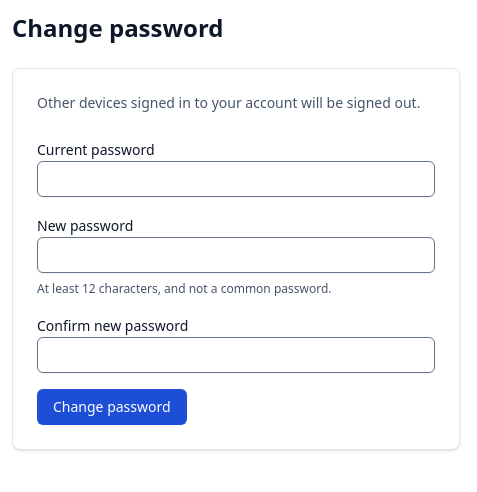
Test: ChangePasswordPage › checks the confirmation first
The image size is (477, 492).
Type "old passphrase 123" into the password field labelled "Current password".
click(236, 179); type("old passphrase 123")  # box [37,161,435,197]
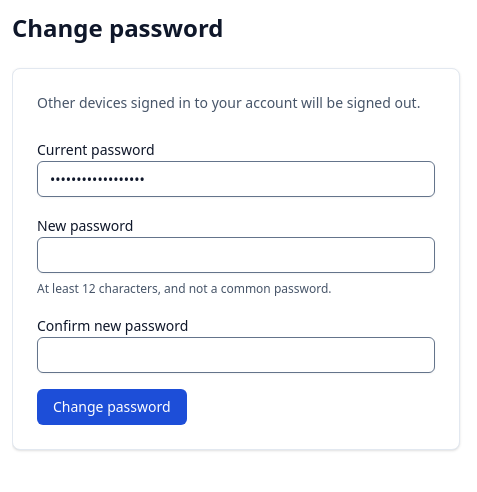
Type "a brand new passphrase" into the password field labelled "New password".
click(236, 255); type("a brand new passphrase")  # box [37,237,435,273]
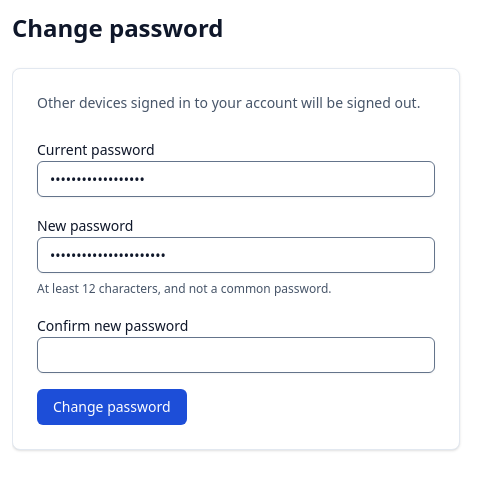
Type "different" into the password field labelled "Confirm new password".
click(236, 355); type("different")  # box [37,337,435,373]
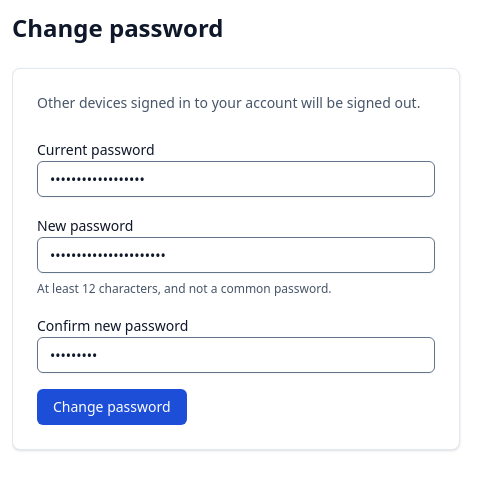
Click the button "Change password".
click(112, 407)  # box [37,389,187,425]
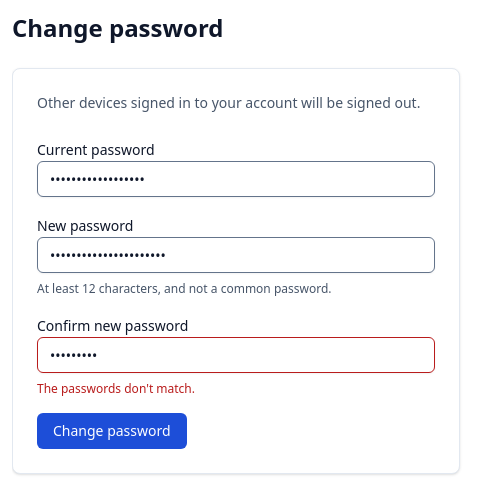
Expected: the message reads "The passwords don't match.", [37,380,195,397]
